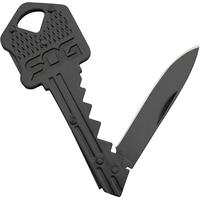knife: (5, 1, 200, 192)
